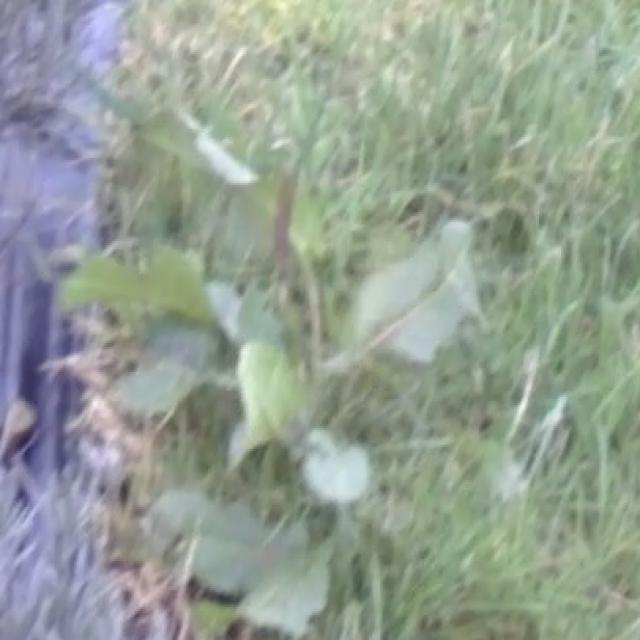organic waste: (73, 91, 482, 621), (131, 220, 498, 640)
